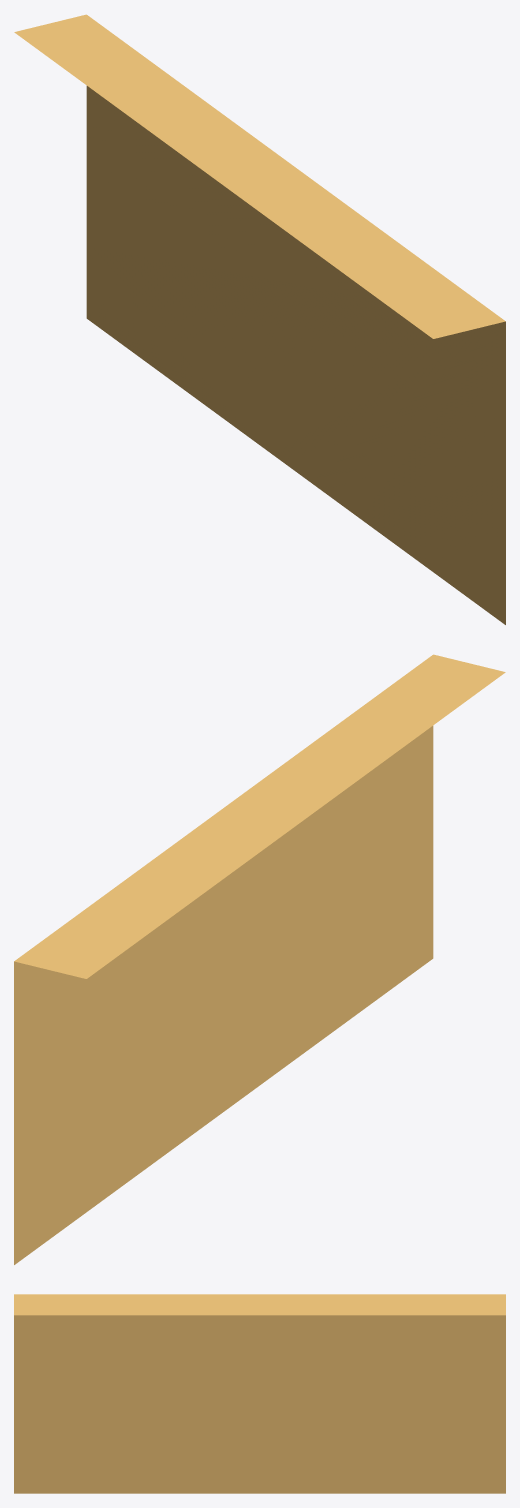
3 renders of one model, top to bottom at view 1: azimuth 30°, elevation 25°; view 2: azimuth 150°, elevation 25°; view 3: azimuth 270°, elevation 25°, orthographic. The views are drawn at different scales.
Bounding box in the file's own units: 0.1 × 0.4 × 1.
